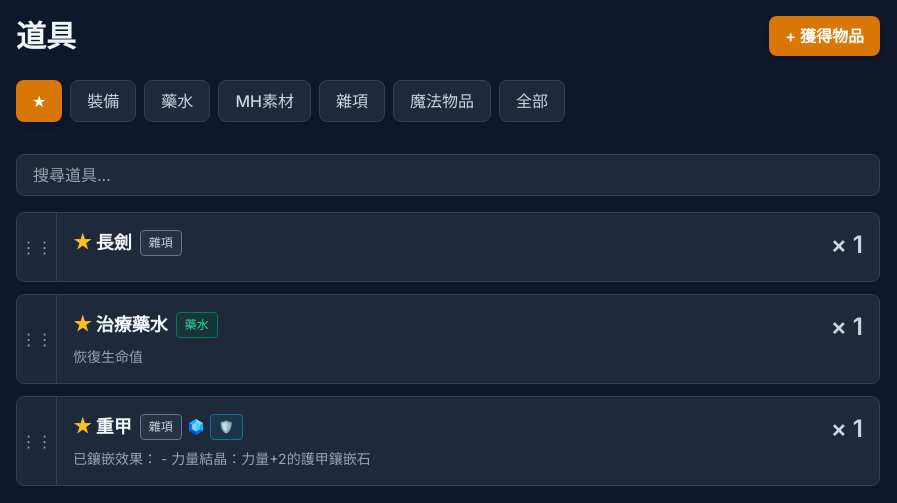
Test: ItemsPage - 搜尋列 › 輸入名稱關鍵字只篩出符合的道具
Check: the heading "★ 長劍" is shown, box top-left (73, 229), bottom-right (132, 257)
In the field with placeholder "搜尋道具...": (448, 175) top-left (16, 154), bottom-right (880, 196), type "長劍"
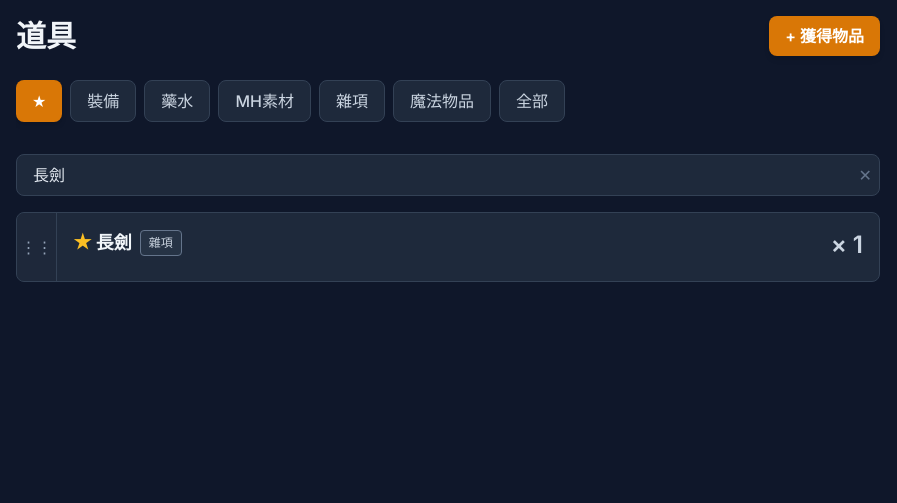
Check: the heading "★ 長劍" is shown, box top-left (73, 229), bottom-right (132, 257)
Check: the button "治療藥水" is gone
Check: the button "重甲" is gone
